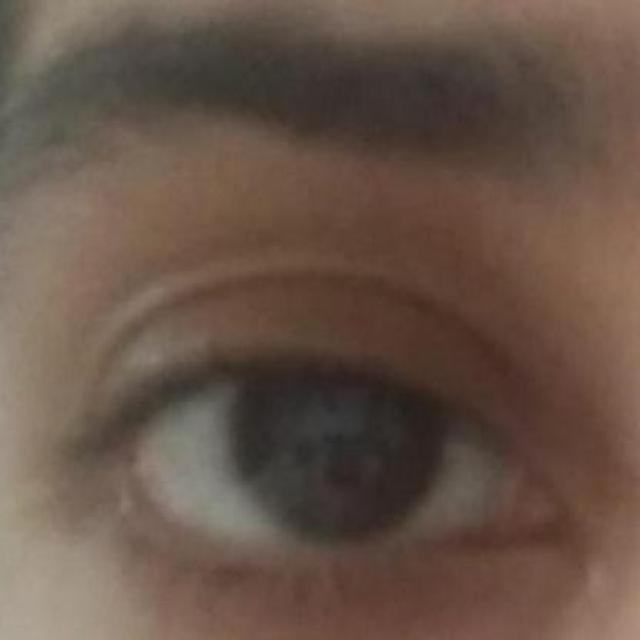awake: (90, 270, 562, 588)
